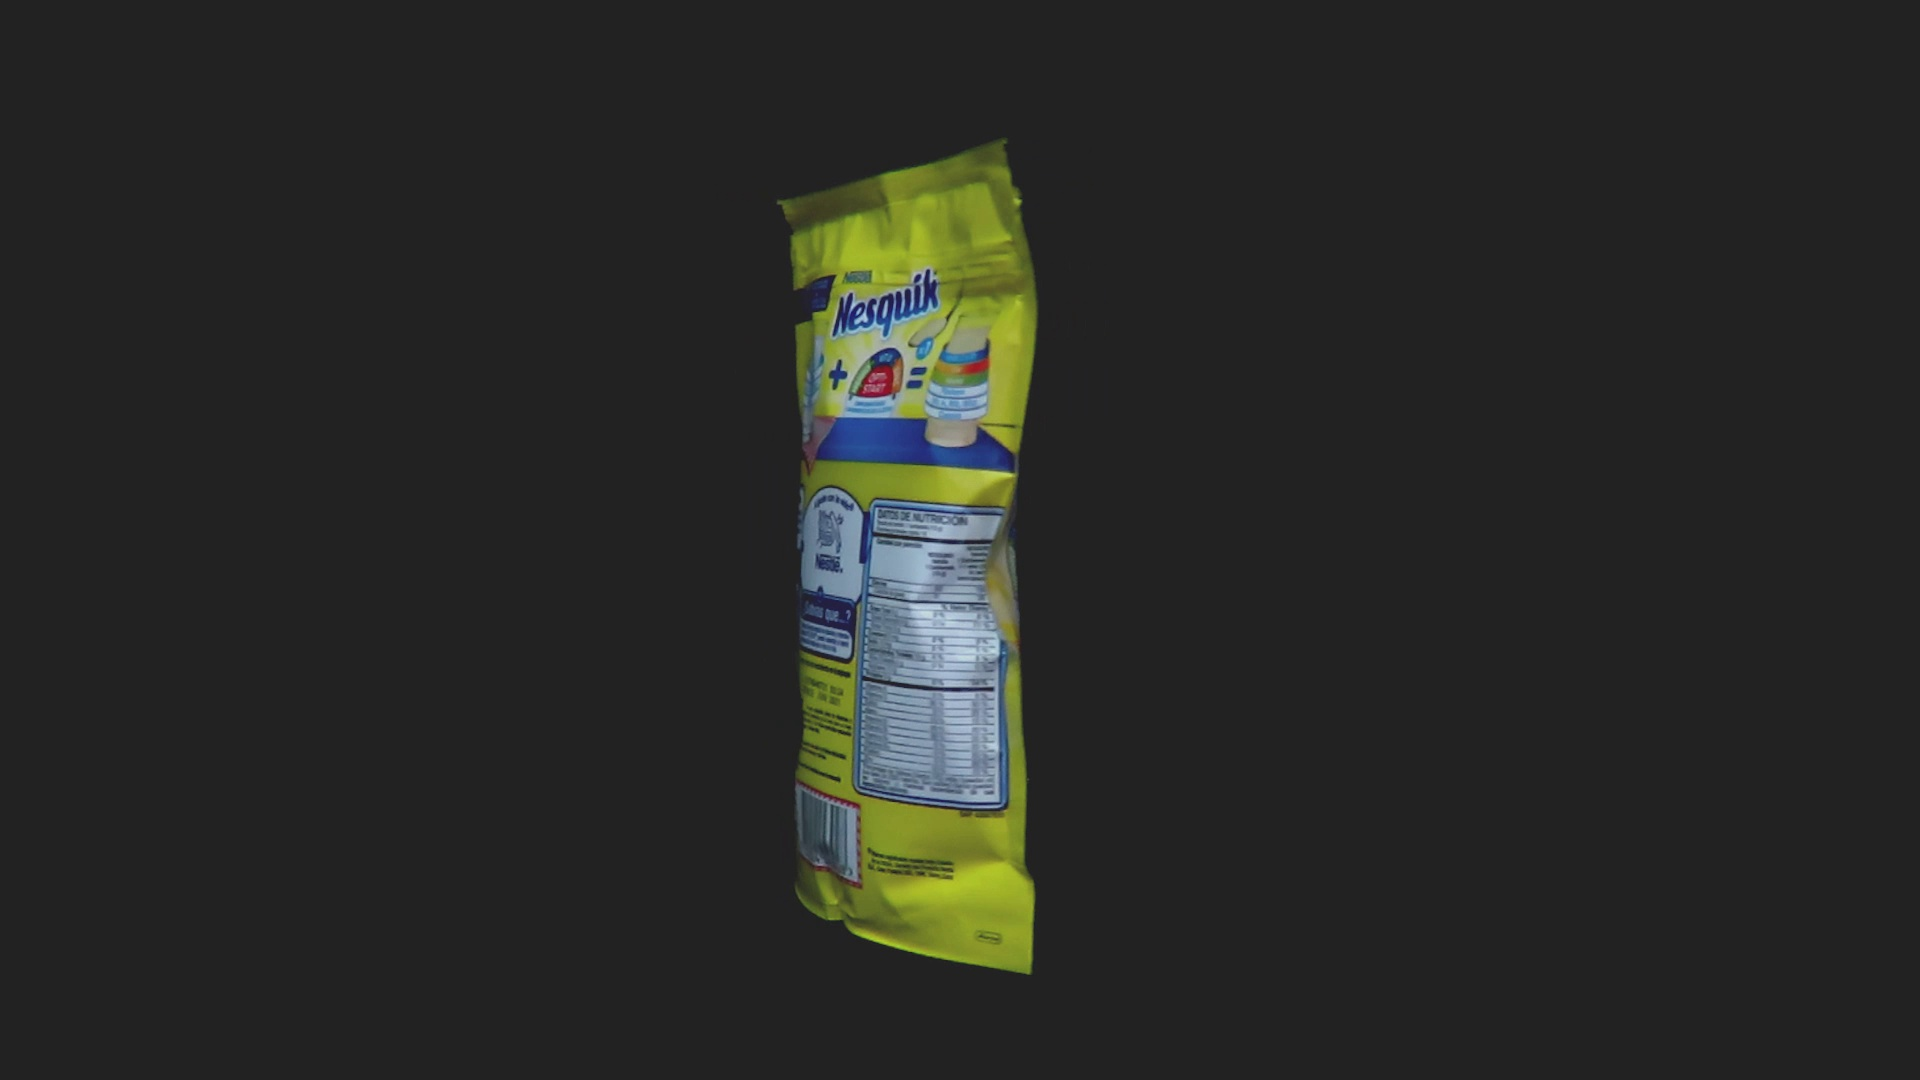COL0170306DYP20000: (787, 191, 1044, 981)
